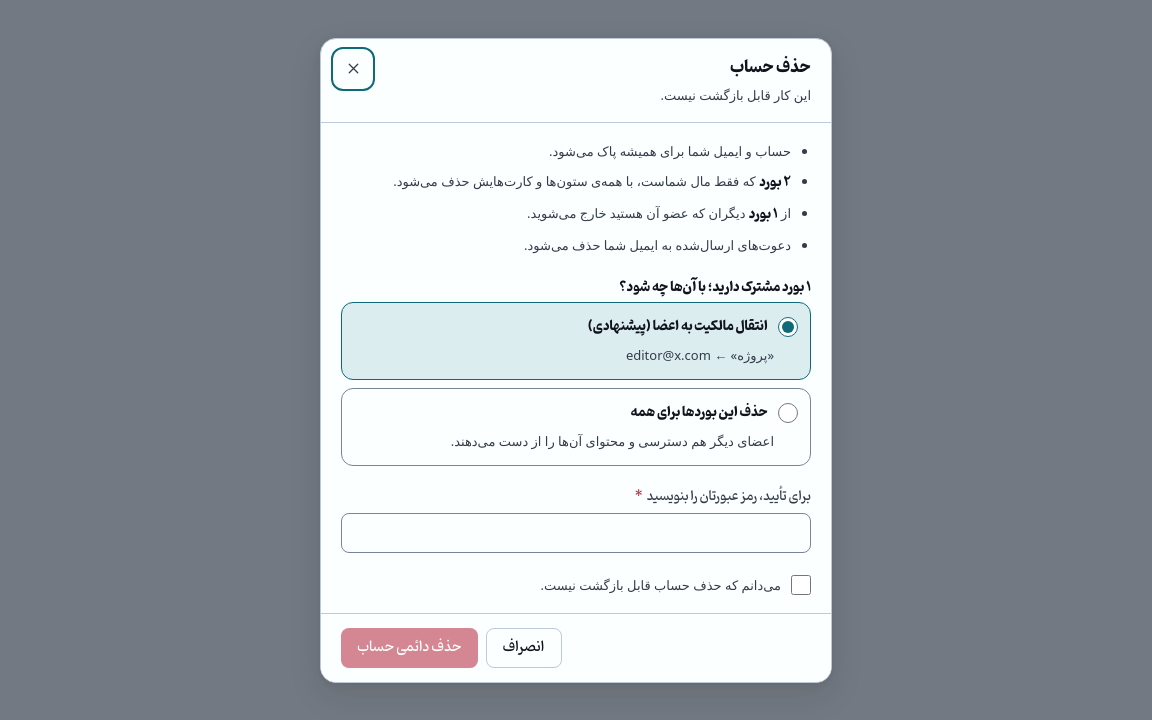
Test: DeleteAccountDialog › stays disabled until the password is typed AND the warning is acknowledged
Check: the list item "حساب و ایمیل شما برای همیشه پاک می‌شود." is shown, box [549,142,791,160]
Check: the button "حذف دائمی حساب" is disabled, box [341,628,478,668]
Type "pw" into the password field labelled "برای تأیید، رمز عبورتان را بنویسید*" at (576, 532), box [341,512,811,552]
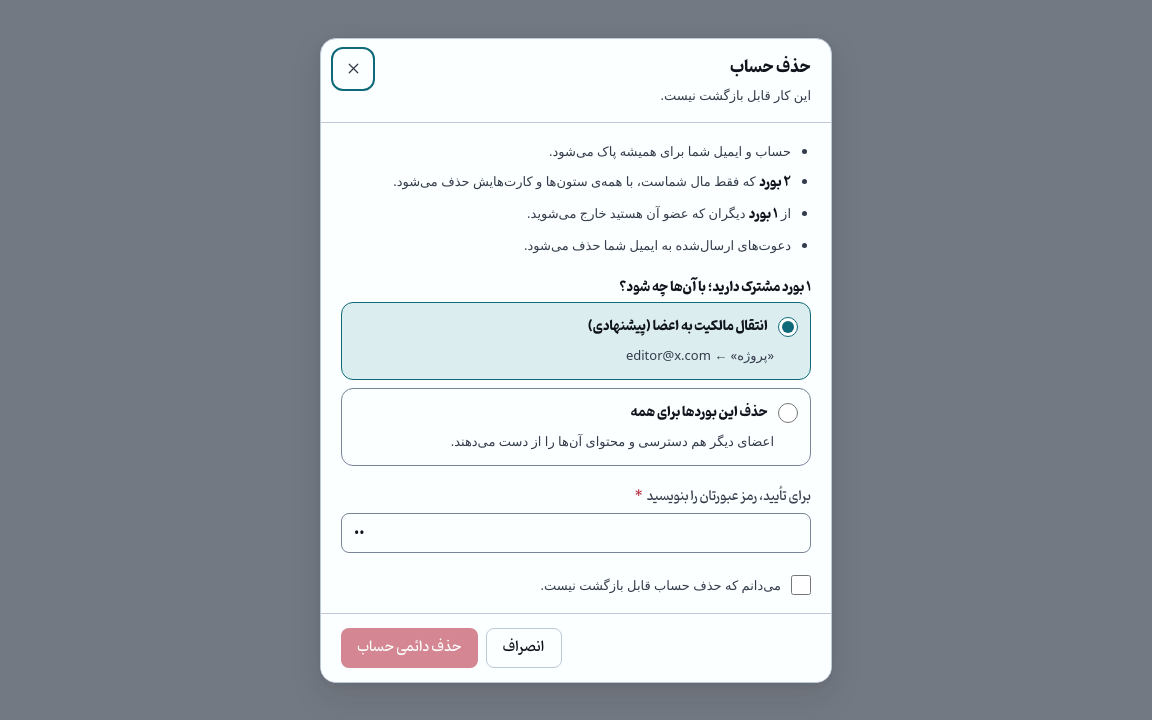
Check: the button "حذف دائمی حساب" is disabled, box [341,628,478,668]
Click the checkbox labelled "می‌دانم که حذف حساب قابل بازگشت نیست." at (801, 584), box [791,574,811,594]
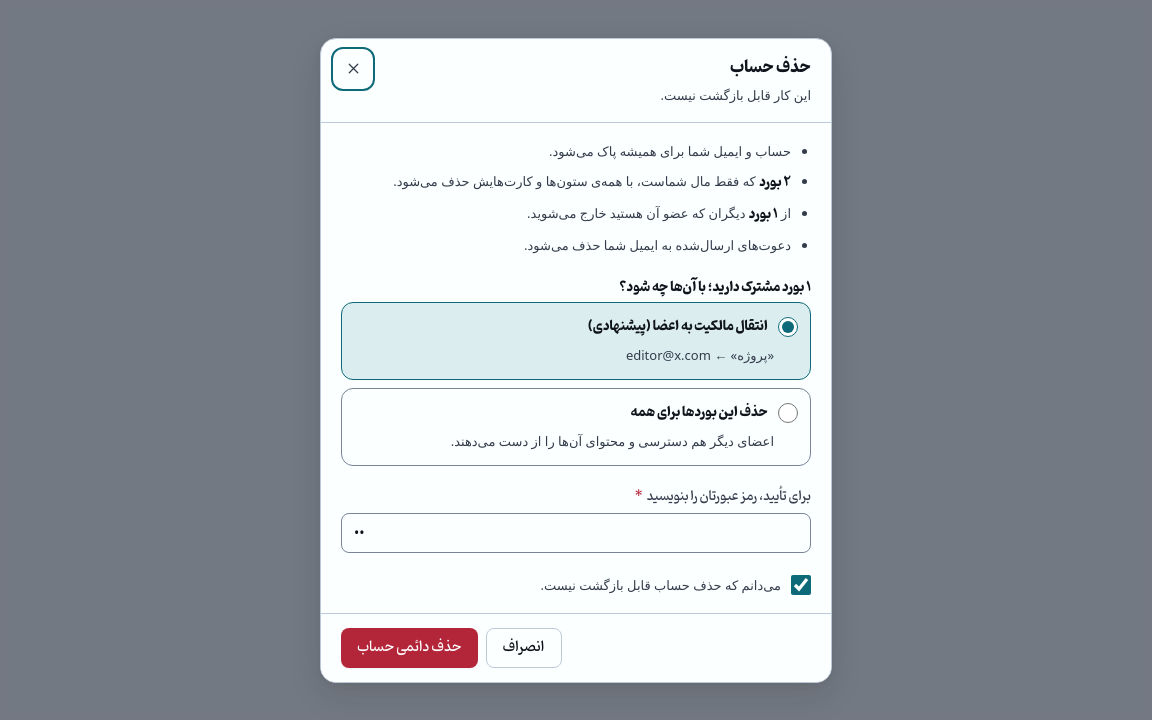
Check: the button "حذف دائمی حساب" is enabled, box [341,628,478,668]
